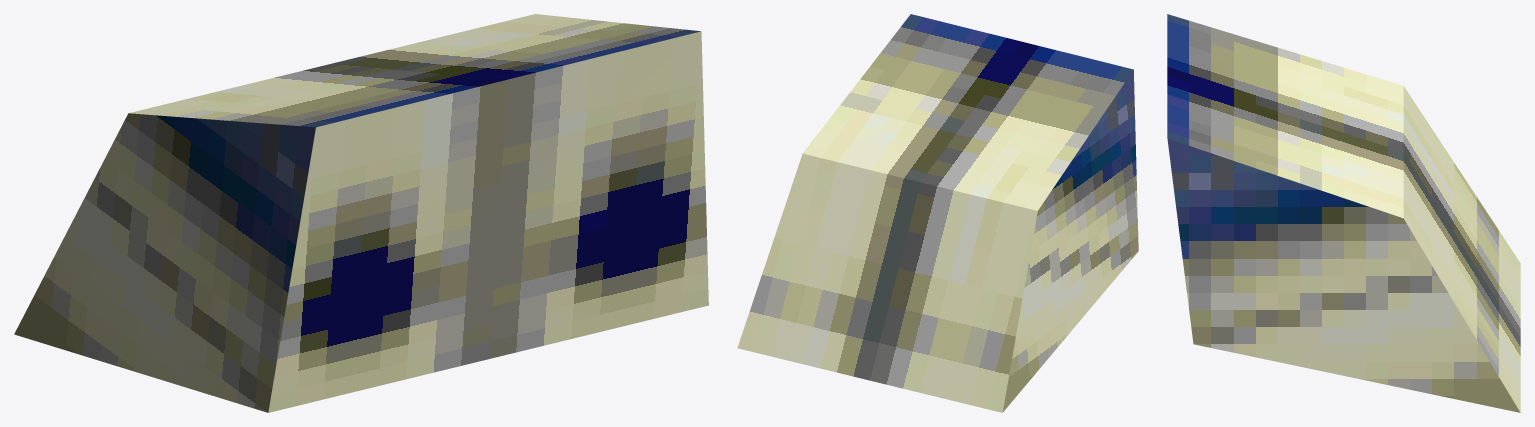
The picture shows the model from 3 angles, left to right: view 1: azimuth 30°, elevation 25°; view 2: azimuth 150°, elevation 25°; view 3: azimuth 270°, elevation 25°; orthographic projection. The views are drawn at different scales.
Visible parts, largest first — view 1: MissileCarY_Skel_part01; view 2: MissileCarY_Skel_part01; view 3: MissileCarY_Skel_part01.
Boxes of the visible parts, left/top/right/bottom form: MissileCarY_Skel_part01: left=14, top=14, right=708, bottom=412; MissileCarY_Skel_part01: left=737, top=14, right=1138, bottom=412; MissileCarY_Skel_part01: left=1167, top=14, right=1520, bottom=412.
Bounding box in the file's own units: 3.67 × 3.01 × 3.66.
Materials: 3 (3 with a texture image).
